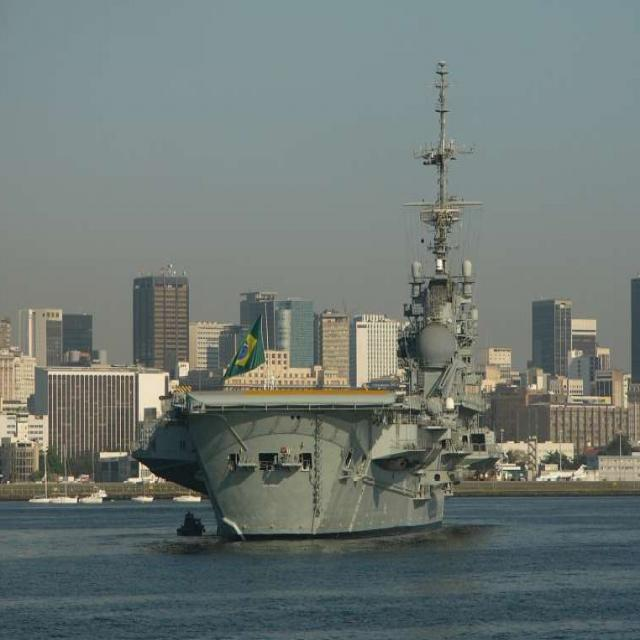Portanaves: (130, 51, 497, 546)
